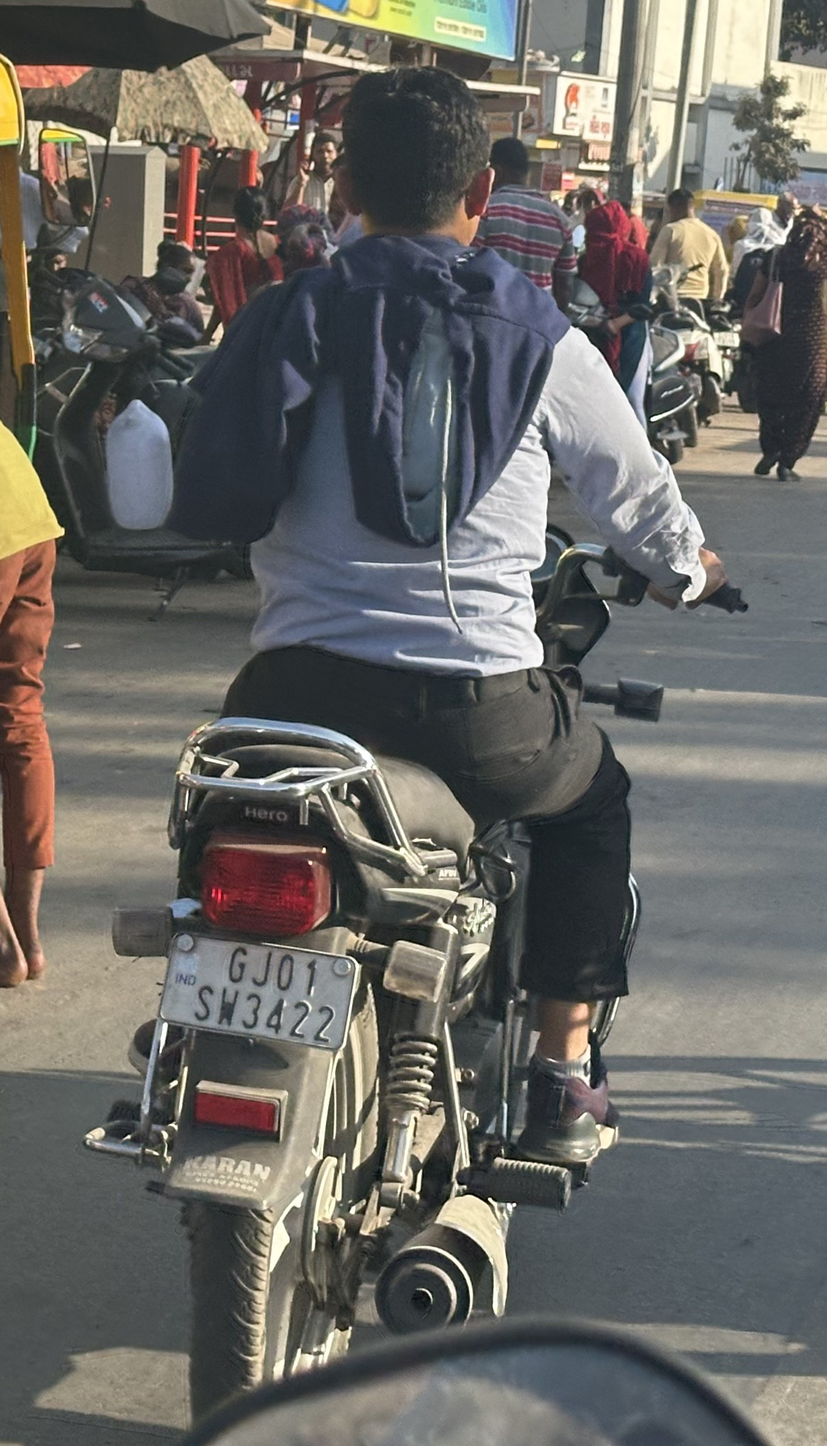BikeWithRider: (76, 58, 751, 1427)
NoHelmet: (331, 56, 496, 256)
